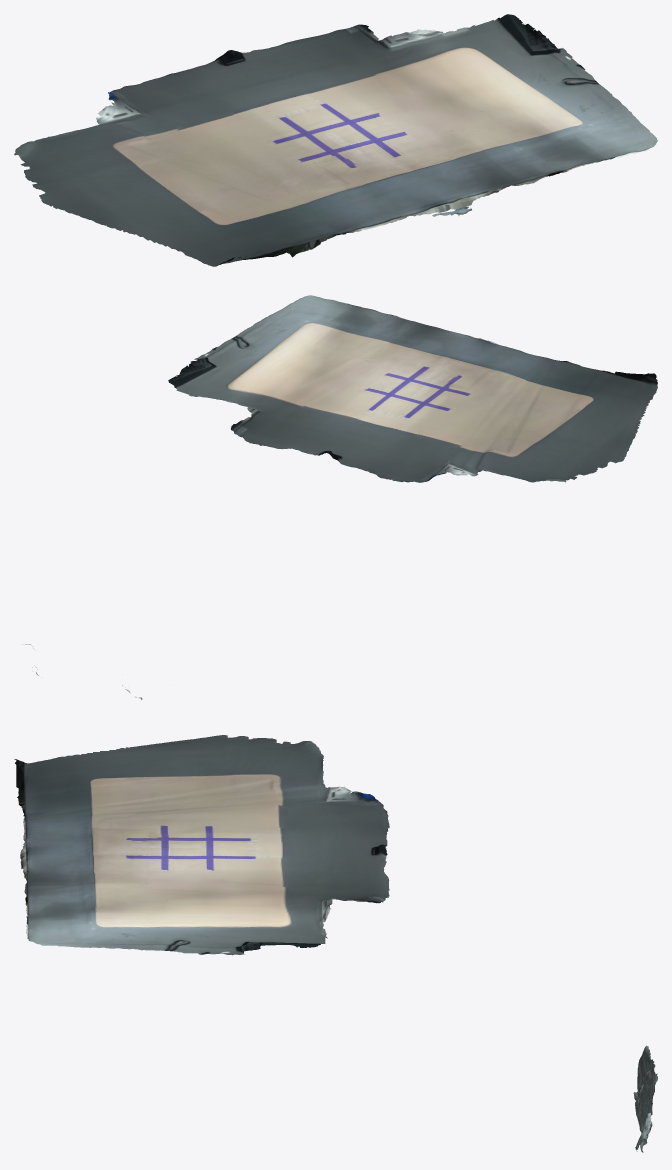
File: ems885_xarm_tabletop.glb
3 renders of one model, top to bottom at view 1: azimuth 30°, elevation 25°; view 2: azimuth 150°, elevation 25°; view 3: azimuth 270°, elevation 25°, orthographic. The views are drawn at different scales.
Visible parts, largest first — view 1: mesh; view 2: mesh; view 3: mesh.
Boxes of the visible parts, x1,y1,x2,y2 form: mesh: (14,14,657,266); mesh: (22,295,657,699); mesh: (14,735,657,1152).
Bounding box in the file's own units: 1.17 × 0.5273 × 1.39.
Materials: 1 (1 with a texture image).
